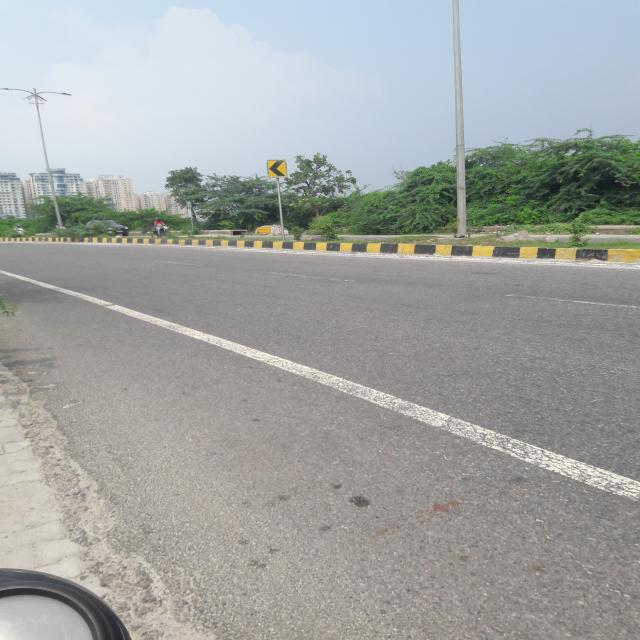TURN_LEFT: (266, 159, 287, 178)
